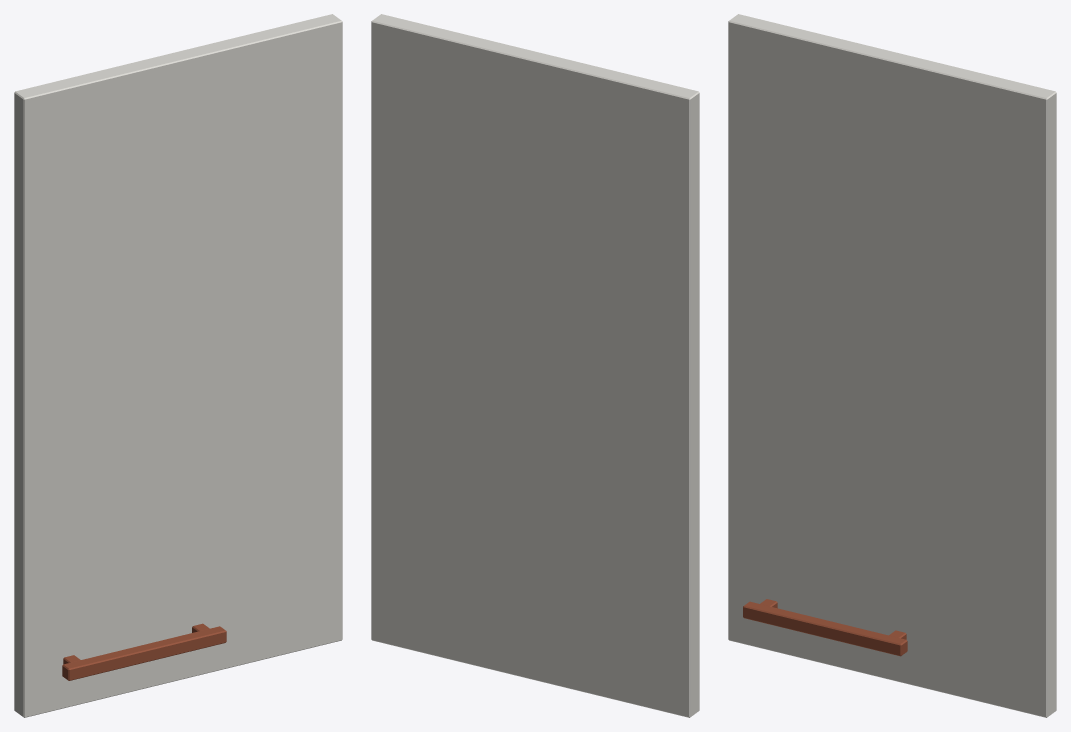
File: l_kitchen_compact_w1_right_door.glb
The picture shows the model from 3 angles, left to right: view 1: azimuth 30°, elevation 25°; view 2: azimuth 150°, elevation 25°; view 3: azimuth 330°, elevation 25°; orthographic projection.
Visible parts, largest first — view 1: l_kitchen_compact_w1_right_door; view 2: l_kitchen_compact_w1_right_door; view 3: l_kitchen_compact_w1_right_door.
Boxes of the visible parts, bbox=[...] form: l_kitchen_compact_w1_right_door: bbox=[14, 14, 342, 717]; l_kitchen_compact_w1_right_door: bbox=[371, 14, 699, 717]; l_kitchen_compact_w1_right_door: bbox=[728, 14, 1056, 717].
Bounding box in the file's own units: 0.322 × 0.597 × 0.044.
